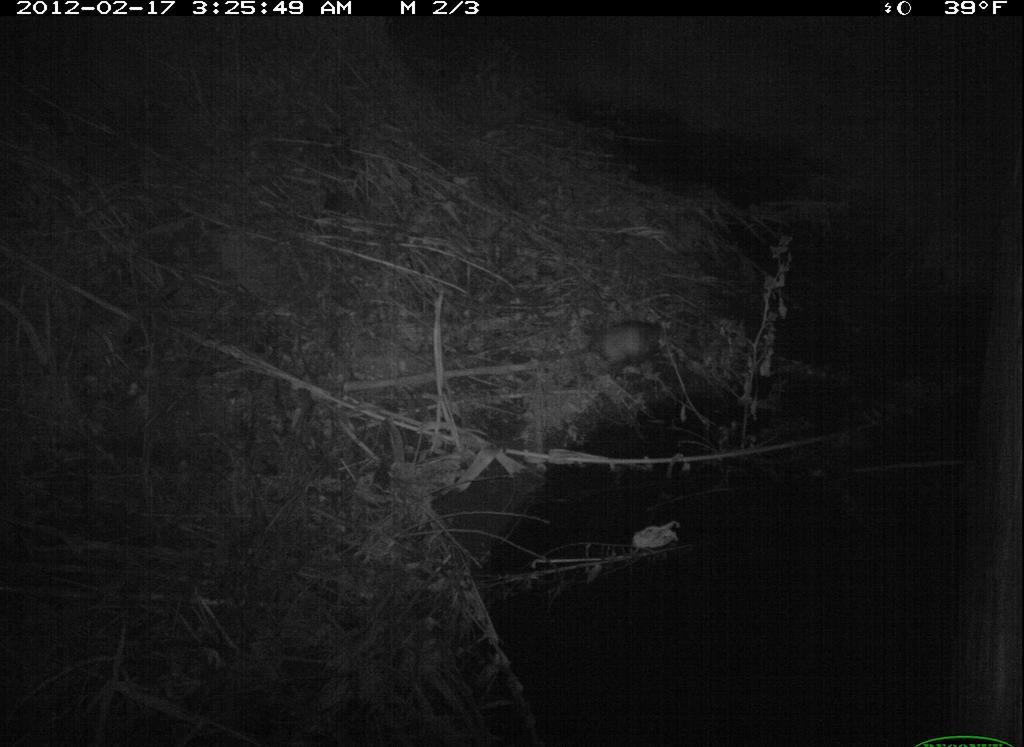opossum: (551, 308, 684, 376)
